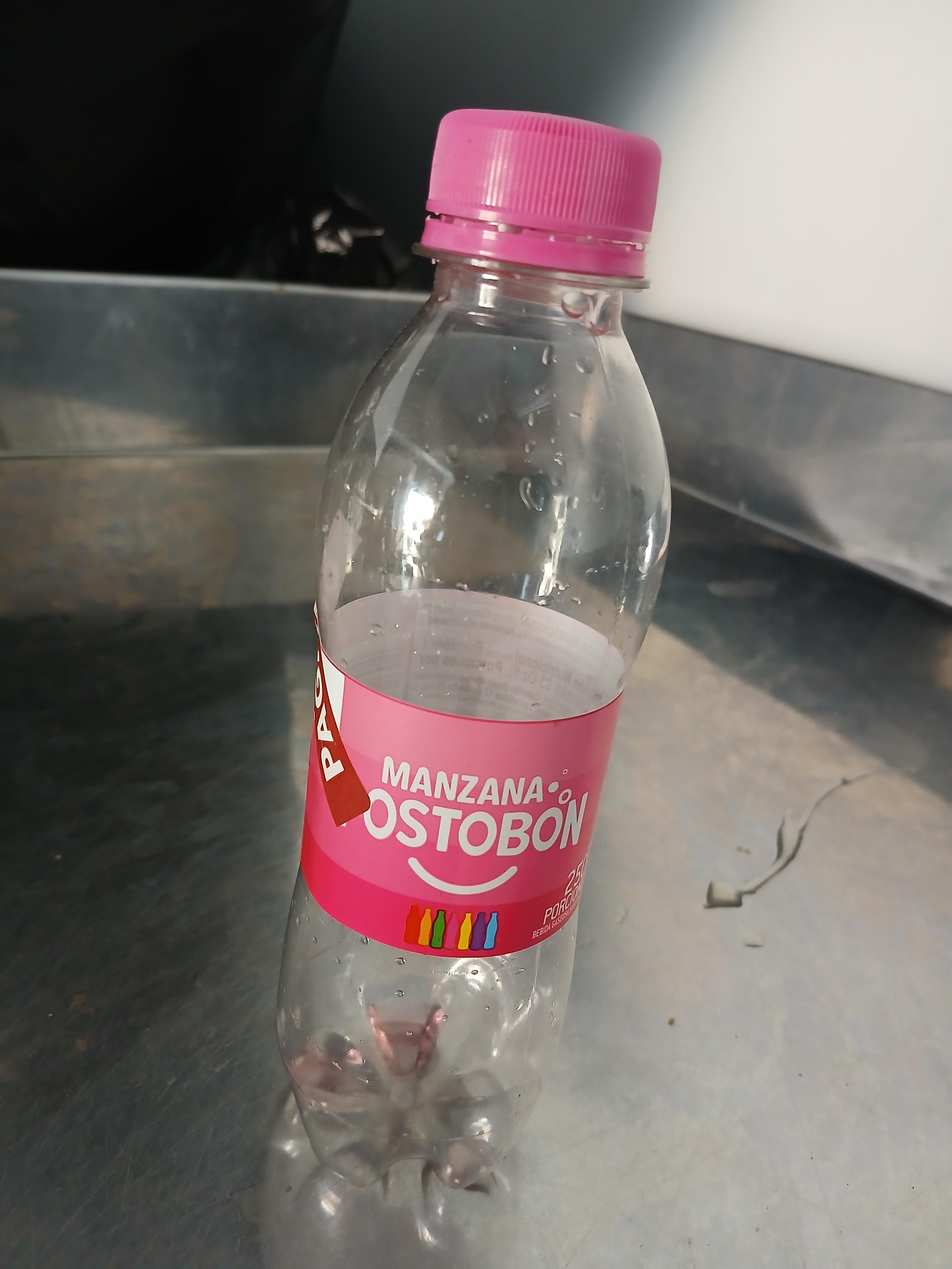Plastico: (271, 110, 674, 1265)
